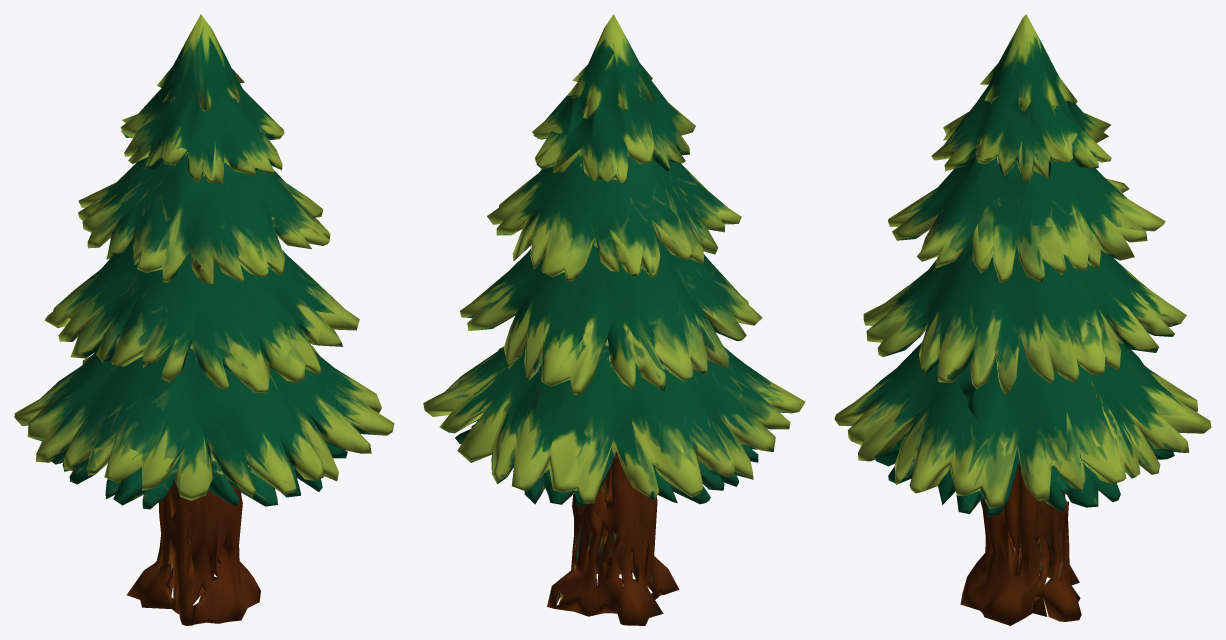
File: tree_pine_v.glb
3 views of the same model, side by side, from view 1: azimuth 30°, elevation 25°; view 2: azimuth 150°, elevation 25°; view 3: azimuth 270°, elevation 25° (orthographic).
Parts seen in each view (by area): view 1: Body; view 2: Body; view 3: Body.
Part boxes in pixels (x1,y1,x2,y2): Body: [14, 14, 394, 625]; Body: [423, 14, 805, 625]; Body: [834, 14, 1211, 625].
Size of the model in its own units: 2.84 by 5.21 by 3.03.
Materials: 1 (1 with a texture image).
